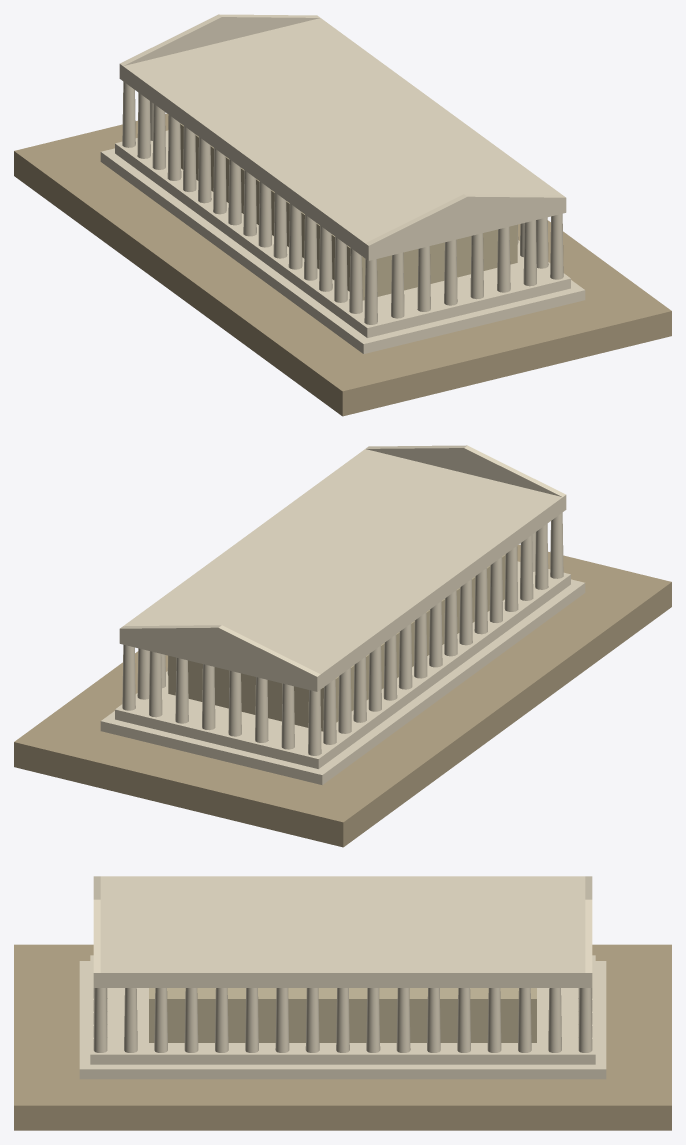
The picture shows the model from 3 angles, top to bottom: view 1: azimuth 30°, elevation 25°; view 2: azimuth 150°, elevation 25°; view 3: azimuth 270°, elevation 25°; orthographic projection.
Size of the model in its own units: 55 by 24 by 95.
